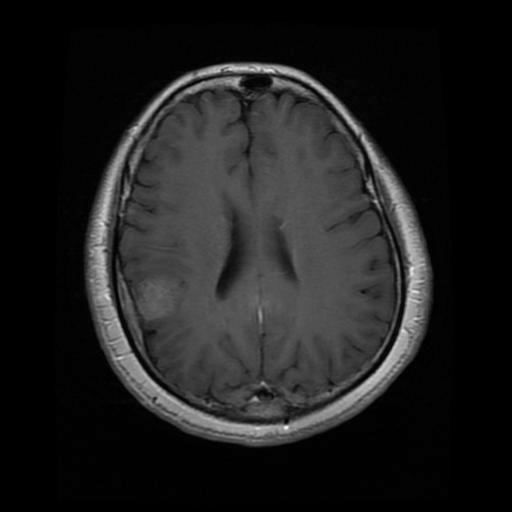Tumour-Pituitary: (121, 265, 188, 339)
